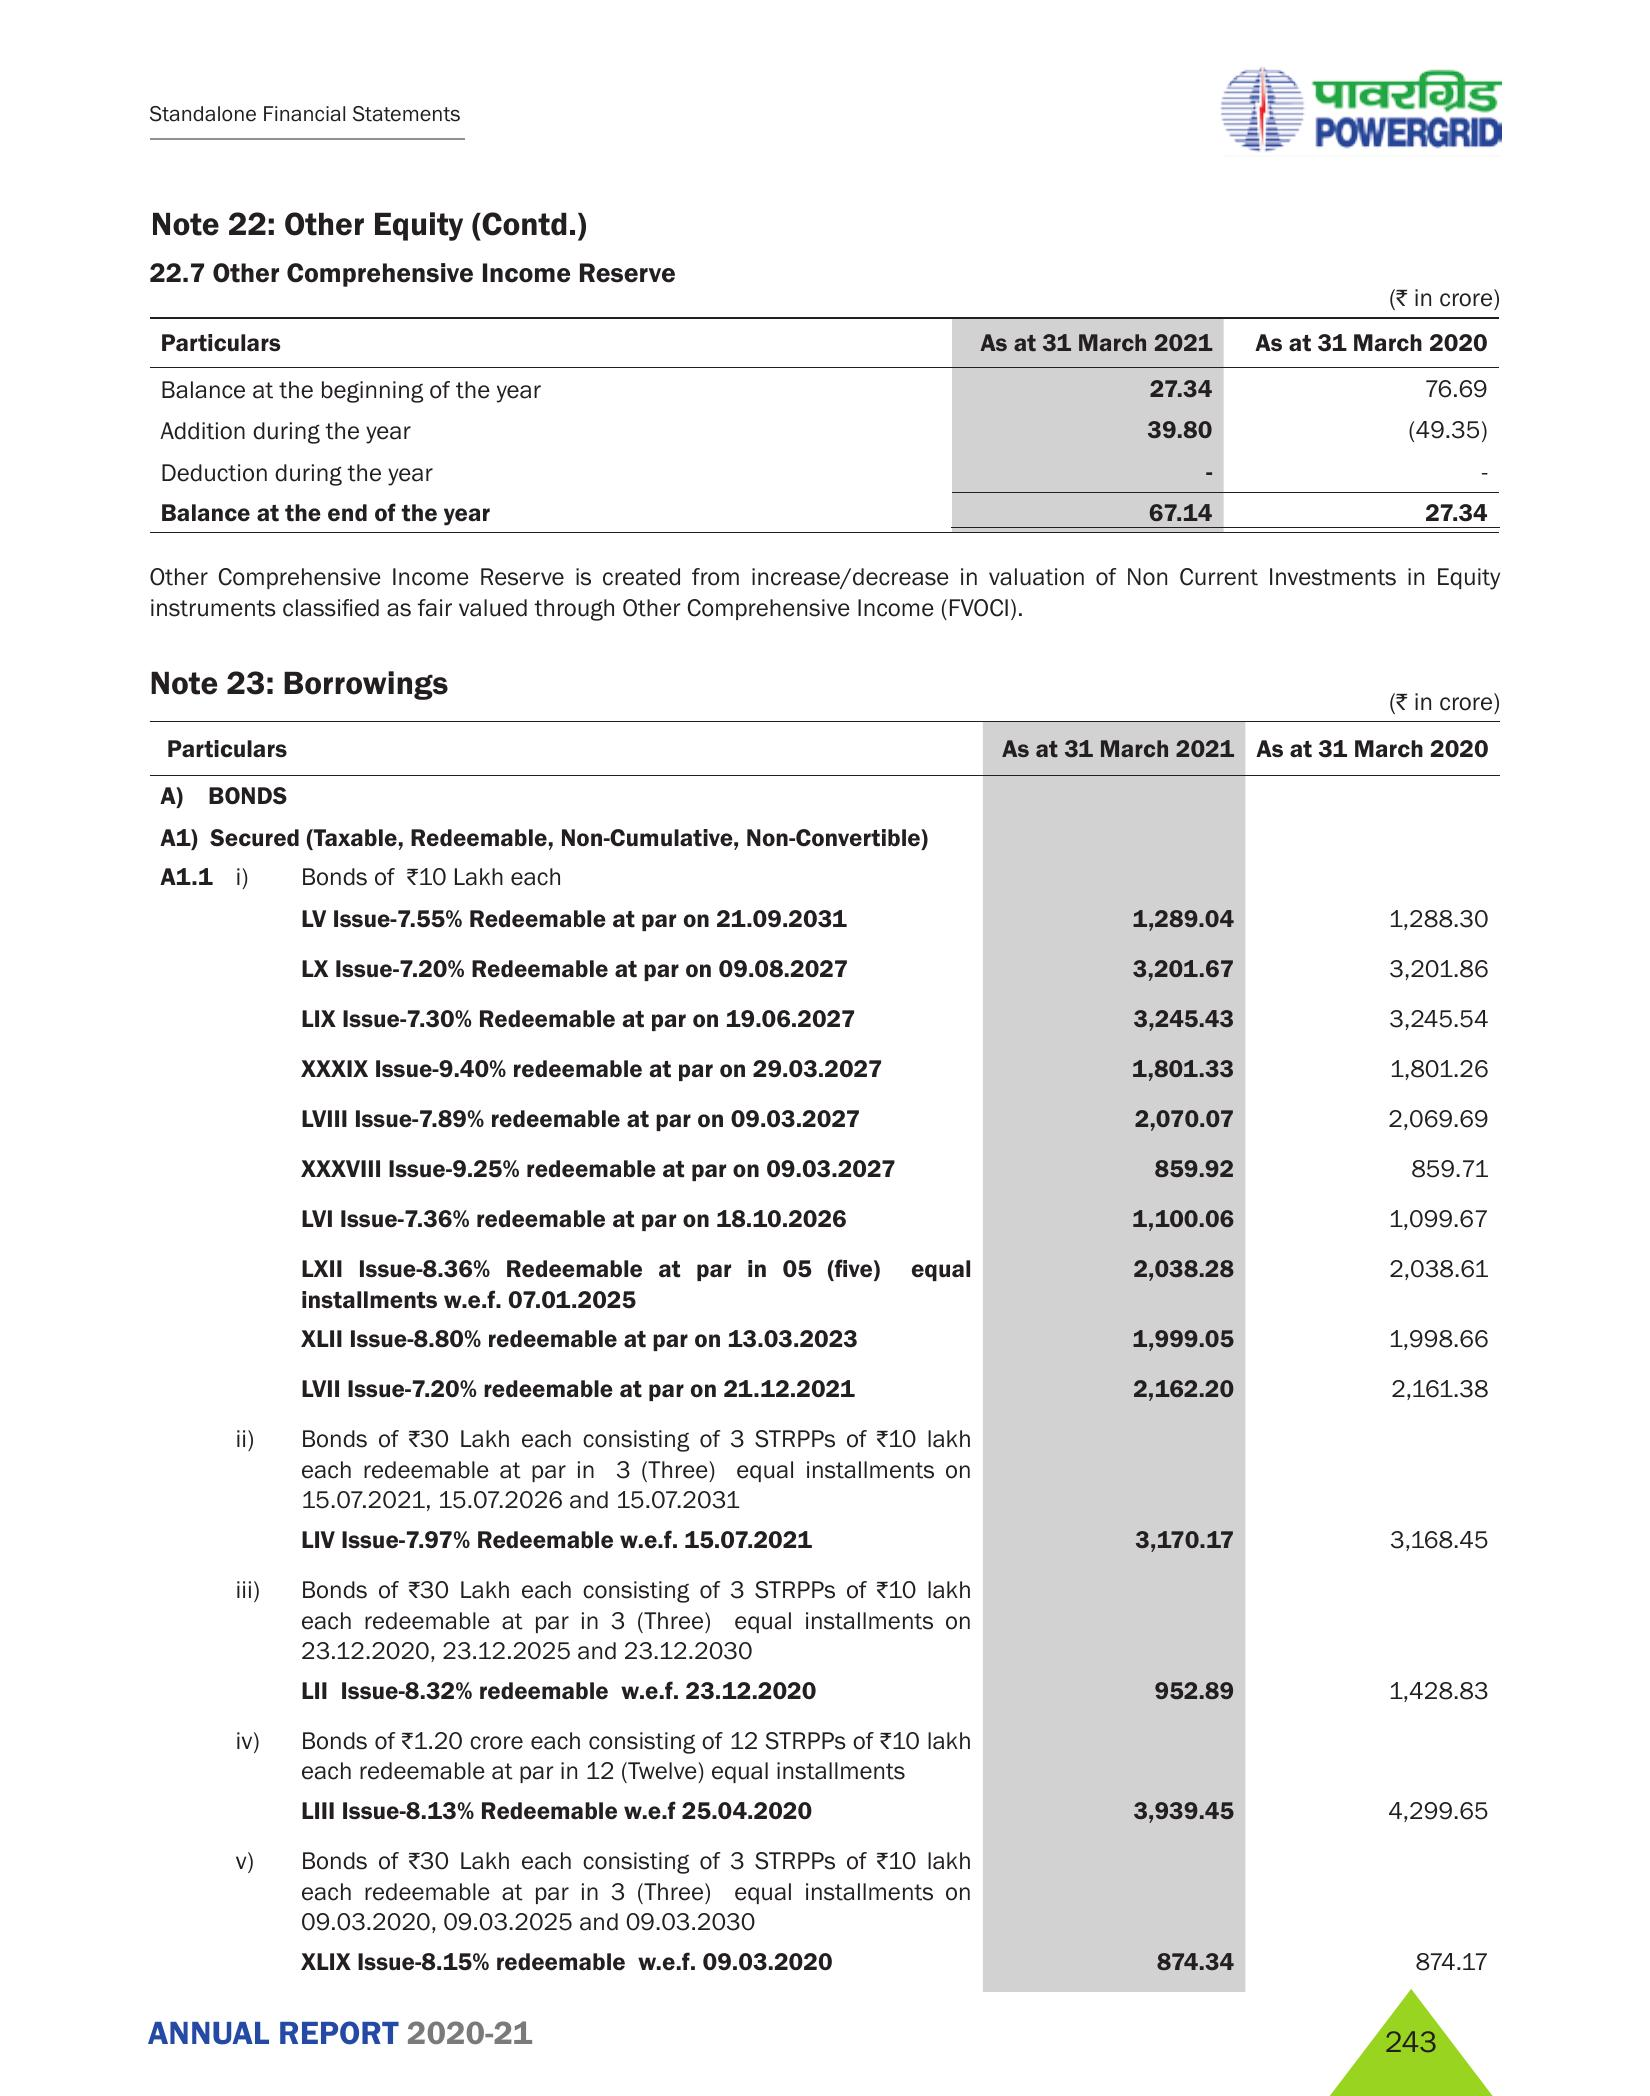Footer: (0, 1979, 1650, 2096)
Header: (0, 0, 1650, 168)
Table: (143, 720, 1551, 1985), (129, 315, 1528, 548)
